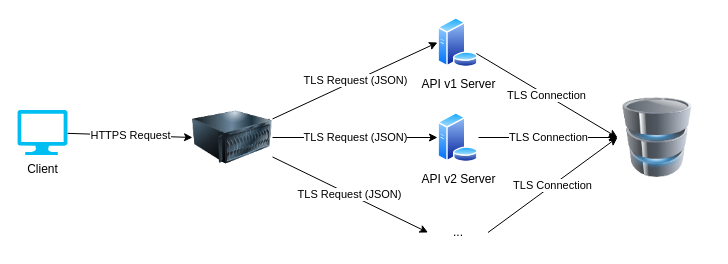
Some shapes in this 728 by 264 pixel diagram are drawn without their labels. Each missing label, with the centre of its shape:
"MongoDB Database" goes at (657,137).
"Proxy Server" goes at (232,137).
